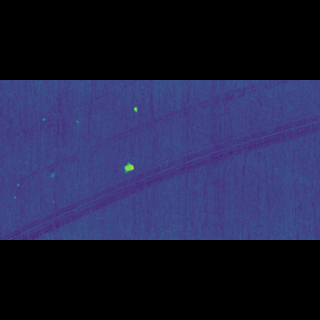Loch: (1, 134, 320, 202), (14, 119, 304, 175), (122, 159, 136, 167), (132, 131, 139, 136)
